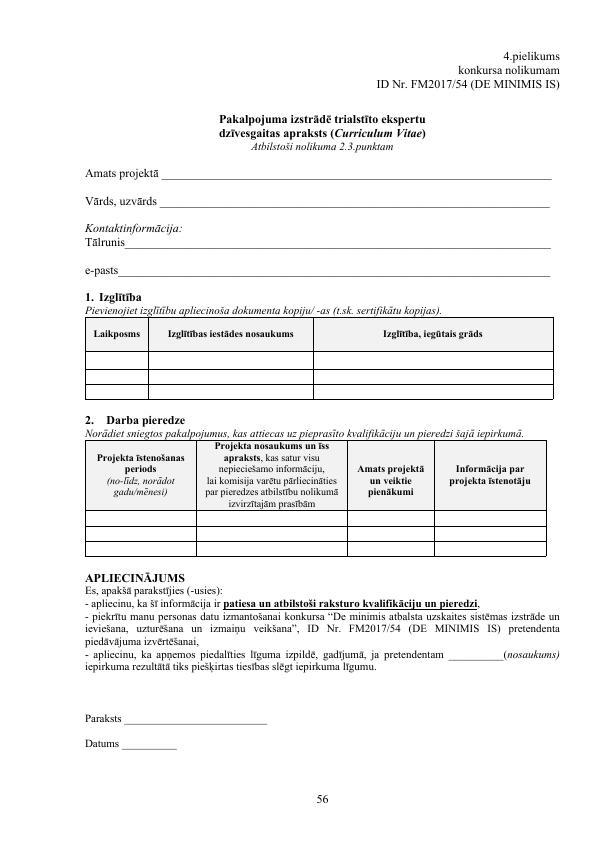input: (162, 192, 556, 214), (131, 237, 557, 256), (163, 165, 552, 185), (127, 264, 556, 282), (124, 709, 271, 732), (448, 647, 504, 671), (121, 736, 182, 756)
table: (81, 438, 553, 561), (78, 315, 561, 406)
text: (82, 568, 564, 646), (82, 415, 532, 440), (215, 106, 432, 157), (364, 46, 565, 96), (77, 289, 455, 314), (79, 658, 377, 677), (86, 650, 447, 664), (82, 192, 158, 213), (82, 222, 185, 236), (82, 164, 159, 182), (77, 236, 127, 253), (80, 708, 124, 727), (79, 736, 121, 754), (80, 265, 120, 280)
